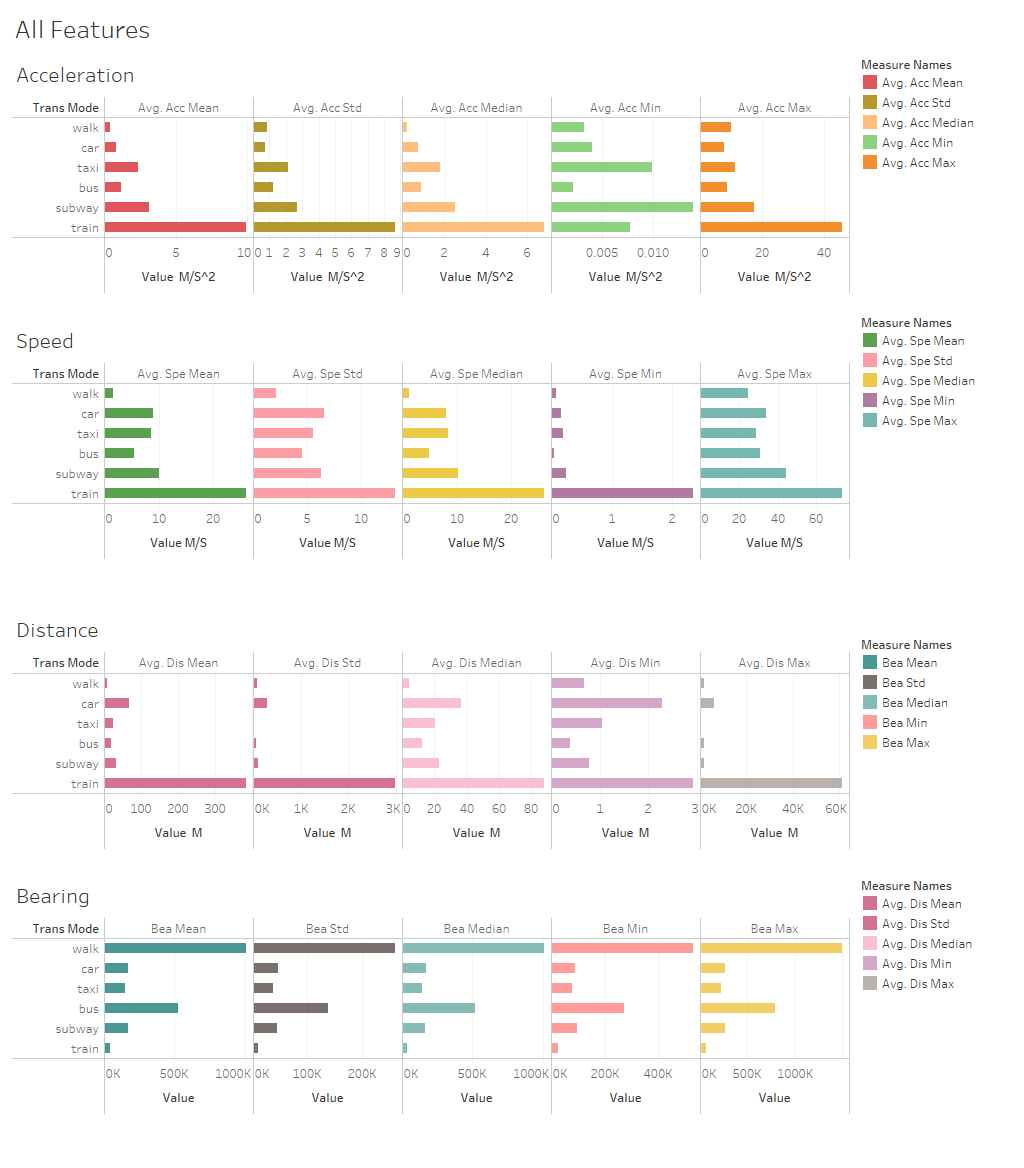

This screenshot's page, from the dashboard's own definition file:
{"tool":"tableau","page":{"name":"All Features","canvas":[1024,1168],"ordinal":0},"visuals":[{"type":"title","box":[8,8,1008,42]},{"type":"worksheet","title":"Acceleration","mark":"Bar","rows":["trans_mode"],"box":[8,50,848,266]},{"type":"legend","title":"Acceleration","param":"[federated.17zajui1b8sbsw1ggvlhj1ryr4bv].[:Measure Names]","box":[856,50,160,126]},{"type":"legend","title":"Bearing","param":"[federated.17zajui1b8sbsw1ggvlhj1ryr4bv].[:Measure Names]","box":[856,308.2,160,126]},{"type":"worksheet","title":"Speed","mark":"Bar","rows":["trans_mode"],"box":[8,316,848,288.9]},{"type":"worksheet","title":"Distance","mark":"Bar","rows":["trans_mode"],"box":[8,604.9,848,266]},{"type":"legend","title":"Speed","param":"[federated.17zajui1b8sbsw1ggvlhj1ryr4bv].[:Measure Names]","box":[856,605,160,126]},{"type":"worksheet","title":"Bearing","mark":"Bar","rows":["trans_mode"],"box":[8,870.9,848,289.1]},{"type":"legend","title":"Distance","param":"[federated.17zajui1b8sbsw1ggvlhj1ryr4bv].[:Measure Names]","box":[856,870.9,160,126]}]}

Visuals, with their boxes in screenshot pixels (x1, y1, x2, y2), scaled from the page's 1024x1168 canvas onto the 1024x1168 screenshot:
title: x1=8, y1=8, x2=1016, y2=50
"Acceleration" worksheet (Bar marks): x1=8, y1=50, x2=856, y2=316
"Acceleration" legend: x1=856, y1=50, x2=1016, y2=176
"Bearing" legend: x1=856, y1=308, x2=1016, y2=434
"Speed" worksheet (Bar marks): x1=8, y1=316, x2=856, y2=605
"Distance" worksheet (Bar marks): x1=8, y1=605, x2=856, y2=871
"Speed" legend: x1=856, y1=605, x2=1016, y2=731
"Bearing" worksheet (Bar marks): x1=8, y1=871, x2=856, y2=1160
"Distance" legend: x1=856, y1=871, x2=1016, y2=997
